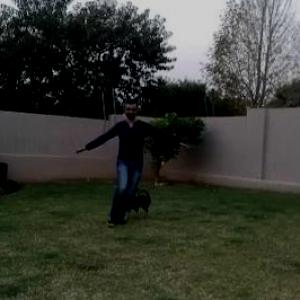land: (84, 105, 193, 231)
